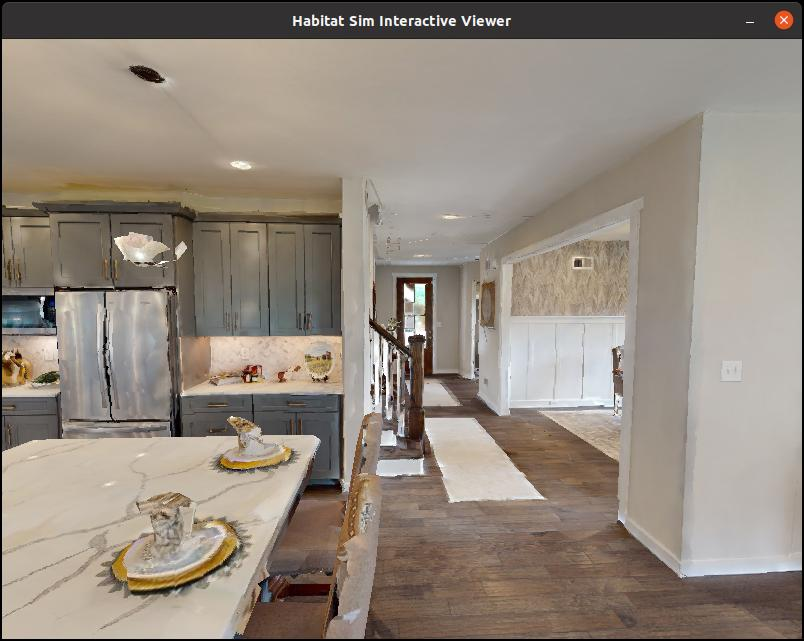chair: (207, 412, 402, 641)
table: (0, 412, 327, 641)
